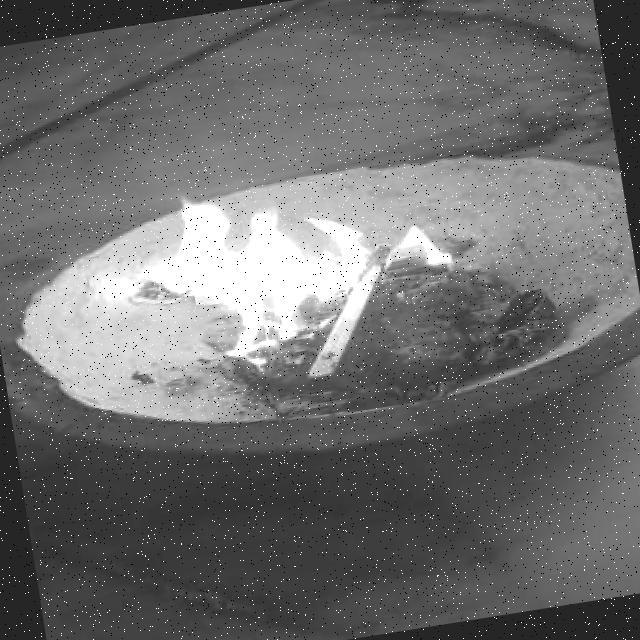Fire: (82, 136, 481, 382)
